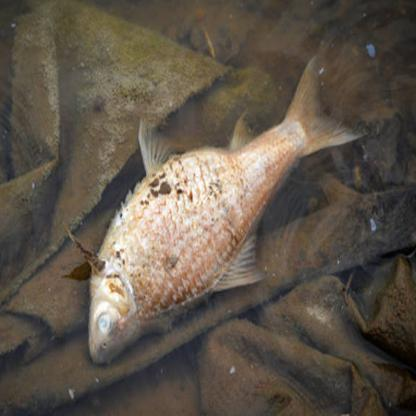deceased fish: (59, 44, 363, 372)
